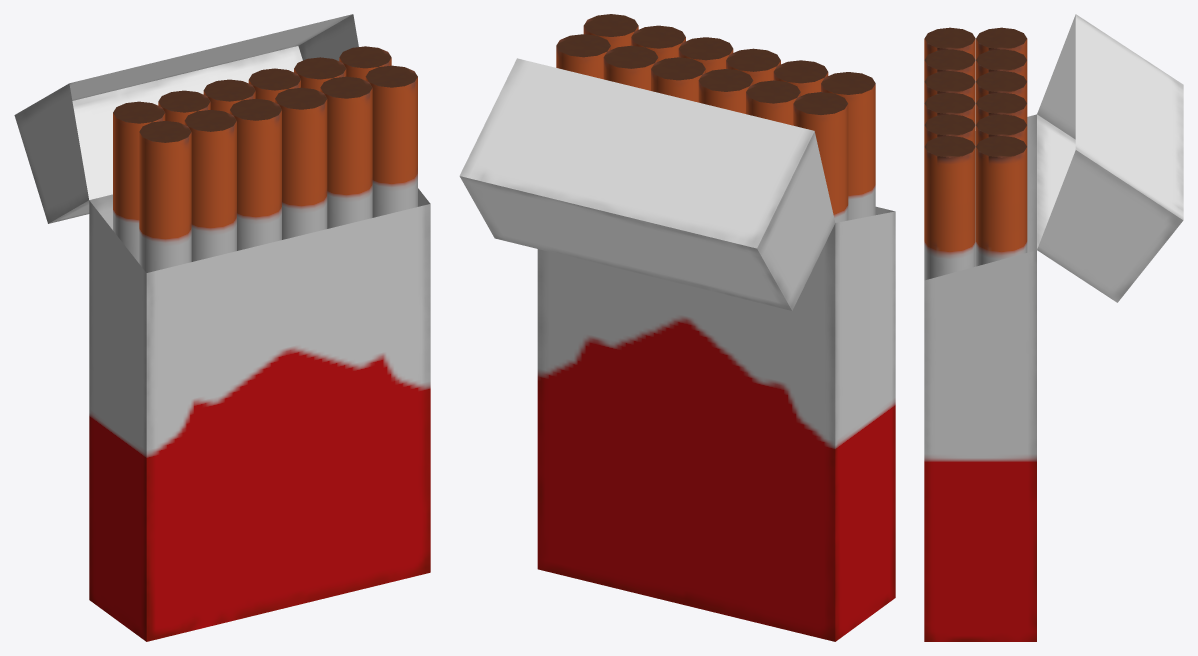
Rendered from CigaretteBox_4.fbx.
3 views of the same model, side by side, from view 1: azimuth 30°, elevation 25°; view 2: azimuth 150°, elevation 25°; view 3: azimuth 270°, elevation 25° (orthographic). The views are drawn at different scales.
Parts seen in each view (by area): view 1: CigaretteBox_4; view 2: CigaretteBox_4; view 3: CigaretteBox_4.
Part boxes in pixels (left/top/right/bottom): CigaretteBox_4: left=14, top=14, right=430, bottom=641; CigaretteBox_4: left=459, top=14, right=895, bottom=641; CigaretteBox_4: left=924, top=14, right=1183, bottom=641.
Size of the model in its own units: 0.0508 by 0.0859 by 0.0409.
